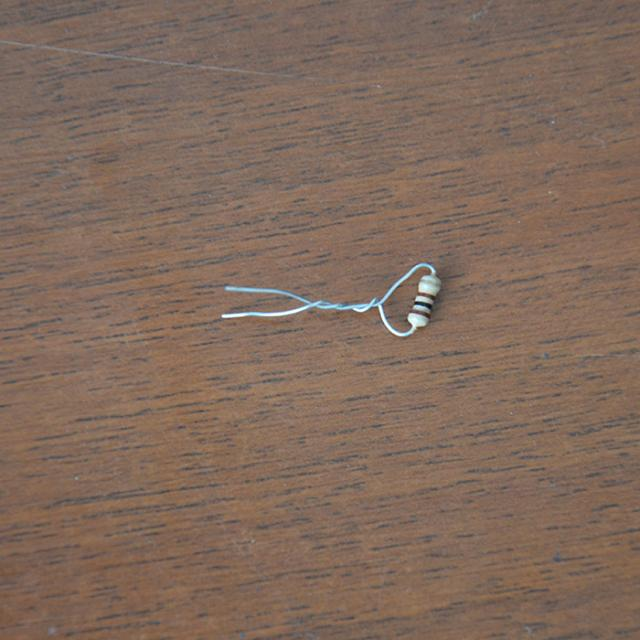Resistor Carbon-Film: (406, 272, 446, 330)
